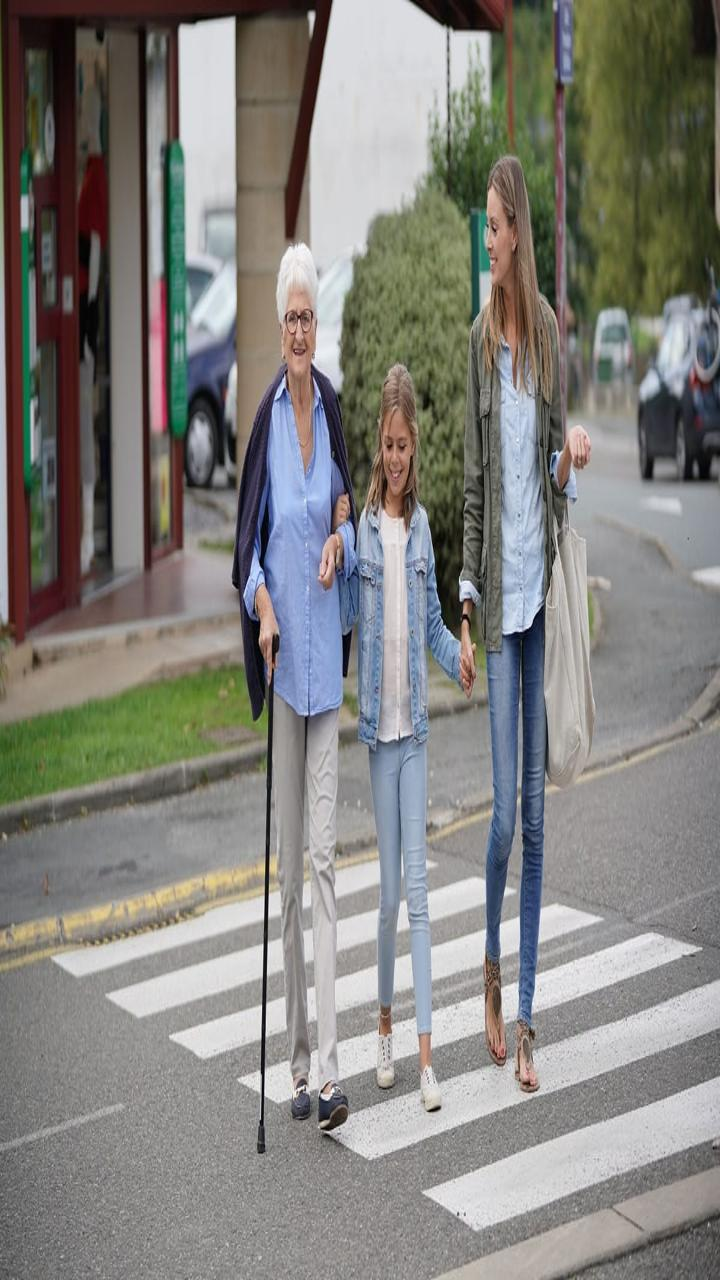pedestrian: (452, 151, 608, 1100), (224, 231, 372, 1157), (325, 357, 451, 1164)
